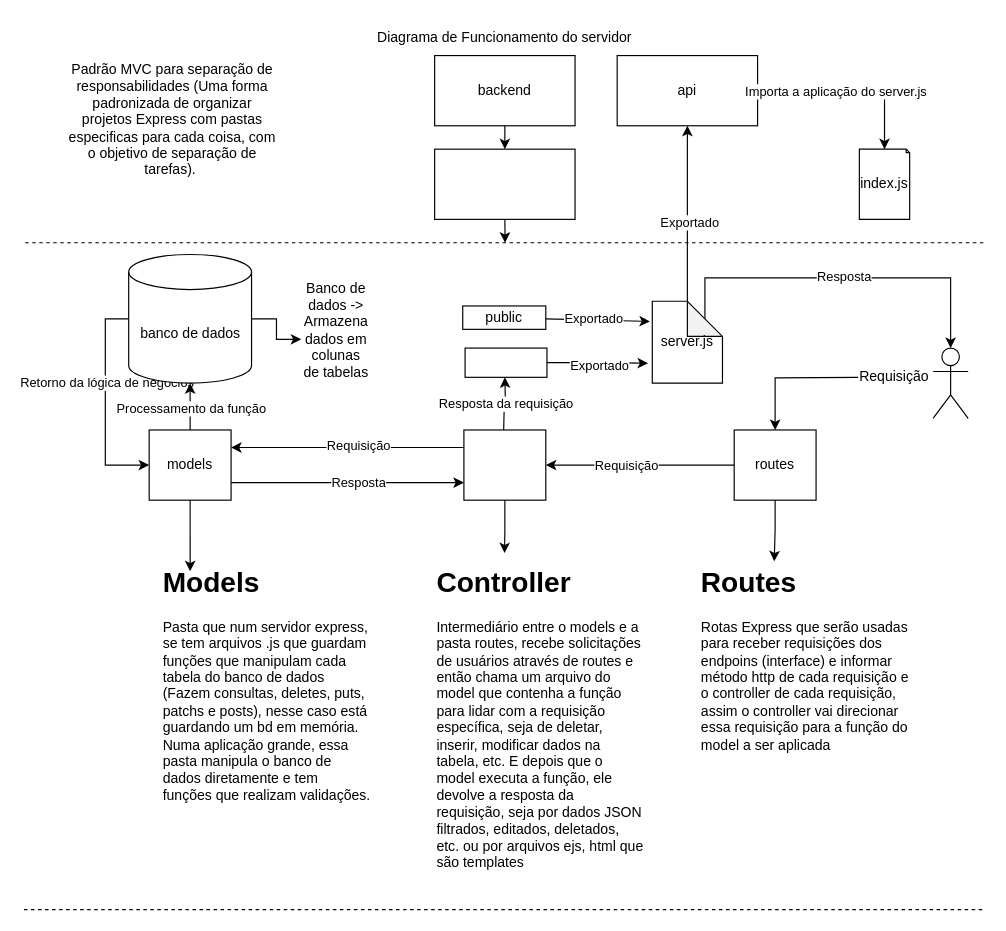
The diagram is 1006 pixels wide and 931 high, and some of its shapes have lost their labels. Here are the shapes that lost their labels. From the top down, the centre of each, then its label:
At [504,183]: "src".
At [505,362]: "view".
At [950,382]: "Usuário".
At [504,464]: "controller".
